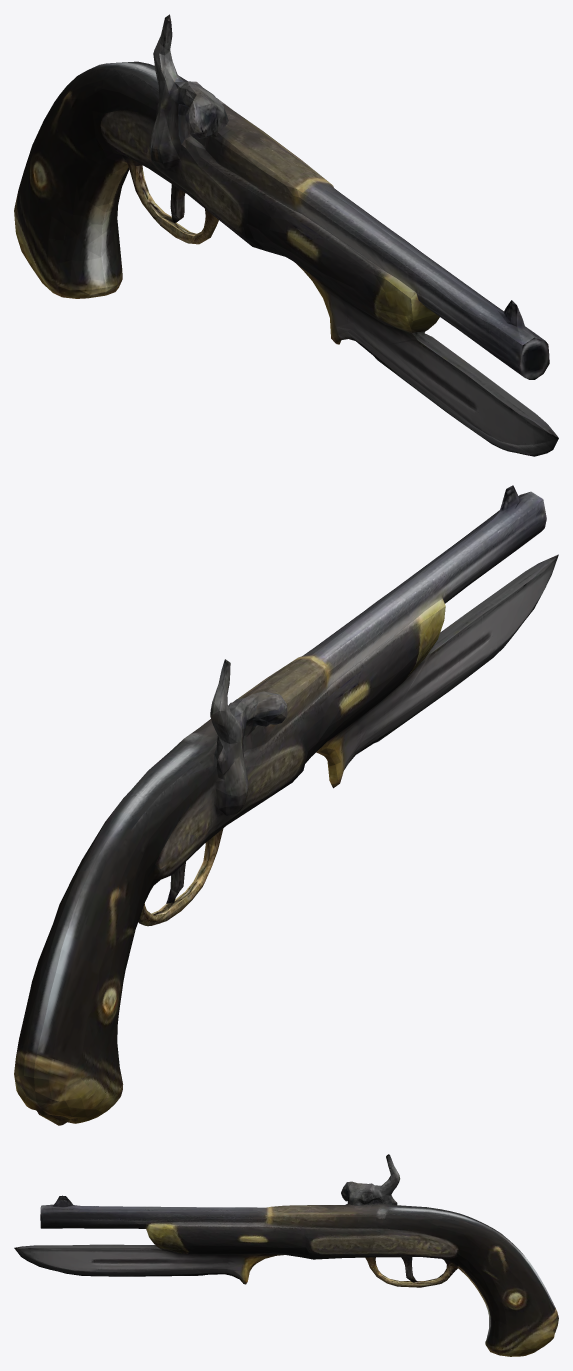
The model's file is cixiong.glb.
The picture shows the model from 3 angles, top to bottom: view 1: azimuth 30°, elevation 25°; view 2: azimuth 150°, elevation 25°; view 3: azimuth 270°, elevation 25°; orthographic projection. The views are drawn at different scales.
Visible parts, largest first — view 1: geometry_0; view 2: geometry_0; view 3: geometry_0.
Boxes of the visible parts, x1,y1,x2,y2 form: geometry_0: (14,14,558,456); geometry_0: (14,485,558,1125); geometry_0: (14,1154,558,1356).
Size of the model in its own units: 0.0928 by 0.3849 by 0.9915.
Materials: 1 (1 with a texture image).
